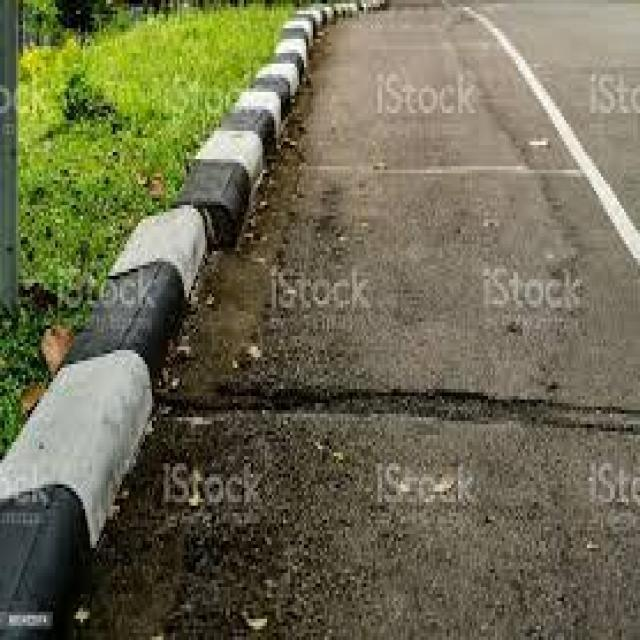curb: (1, 1, 381, 640)
